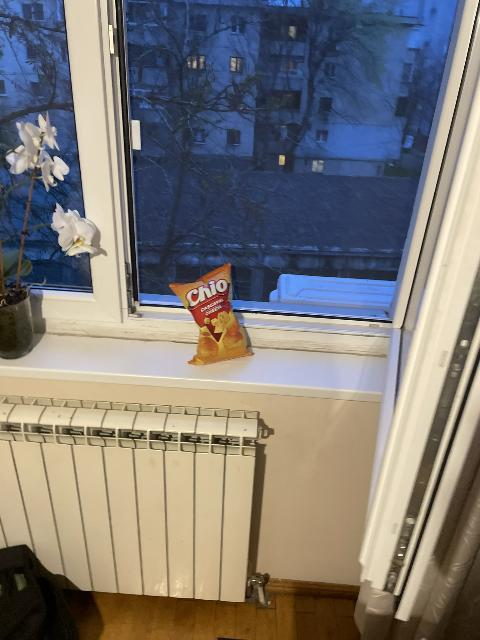Chio Cascaval 125g: (168, 264, 254, 362)
